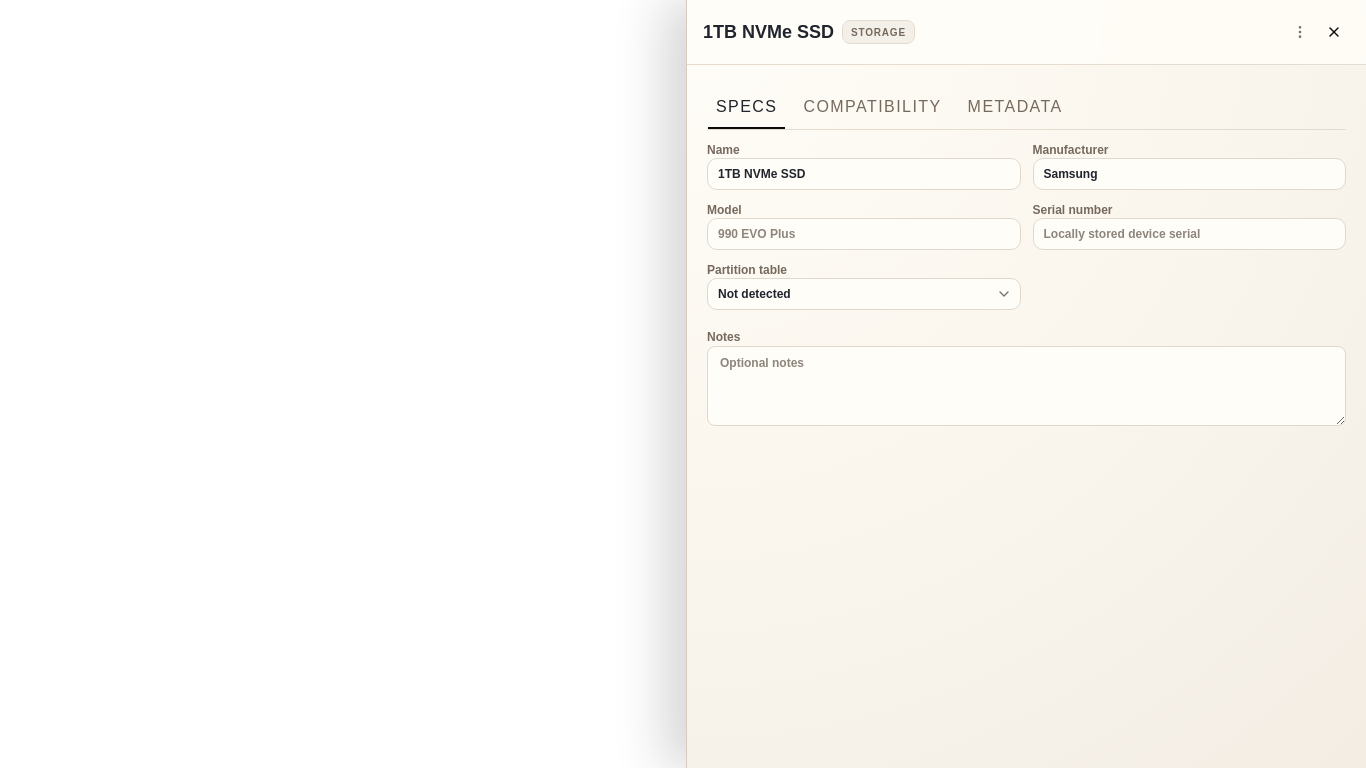
InspectorPanel › renders storage in the reusable tabbed editor with simplified chrome
Expected: the heading "1TB NVMe SSD" is shown, [703,18,834,46]
Expected: the field labelled "Name" holds "1TB NVMe SSD", [707,158,1020,190]
Click the tab "Compatibility".
click(873, 107)  # box [794,89,951,125]
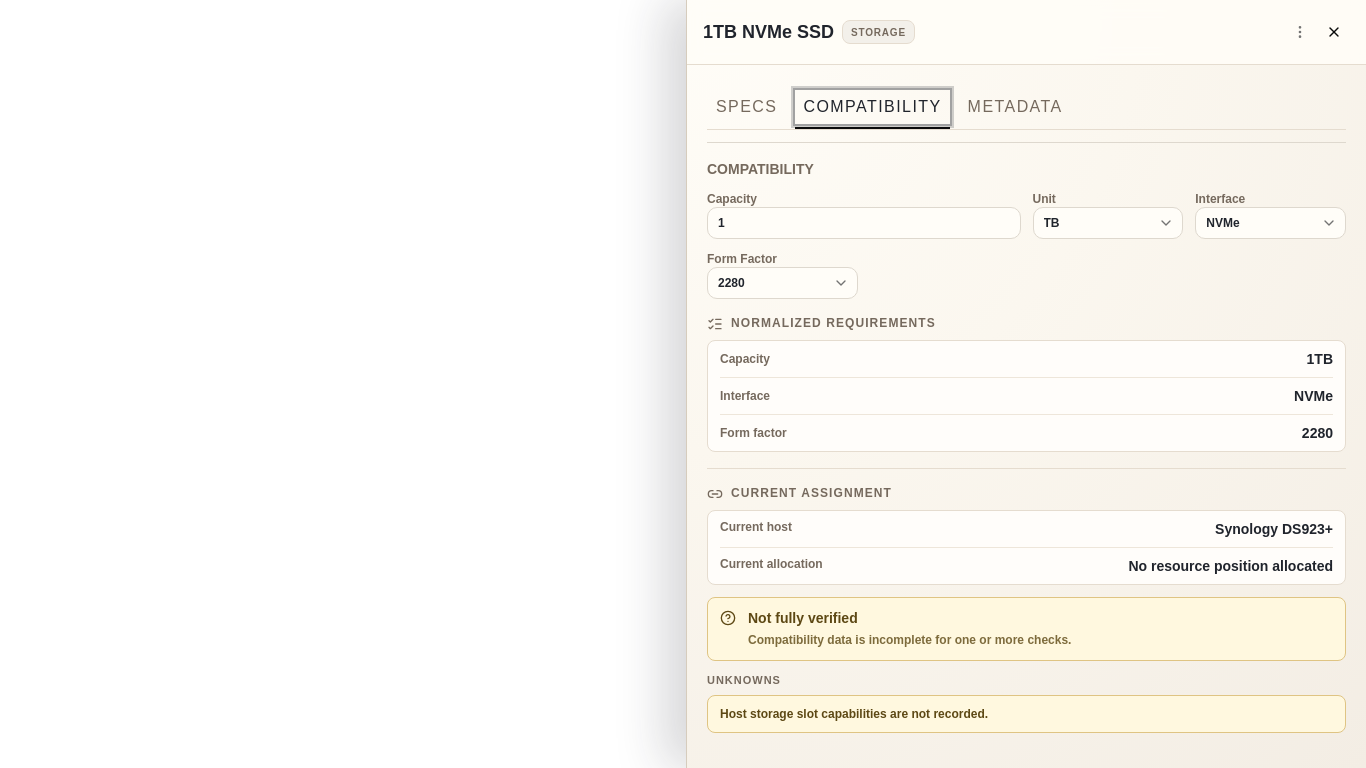
Now the number field labelled "Capacity" holds "1", box [707,207,1020,239]
Now the dropdown named "Unit" reads "TB", box [1032,207,1183,239]
Now the dropdown named "Interface" reads "NVMe", box [1195,207,1346,239]
